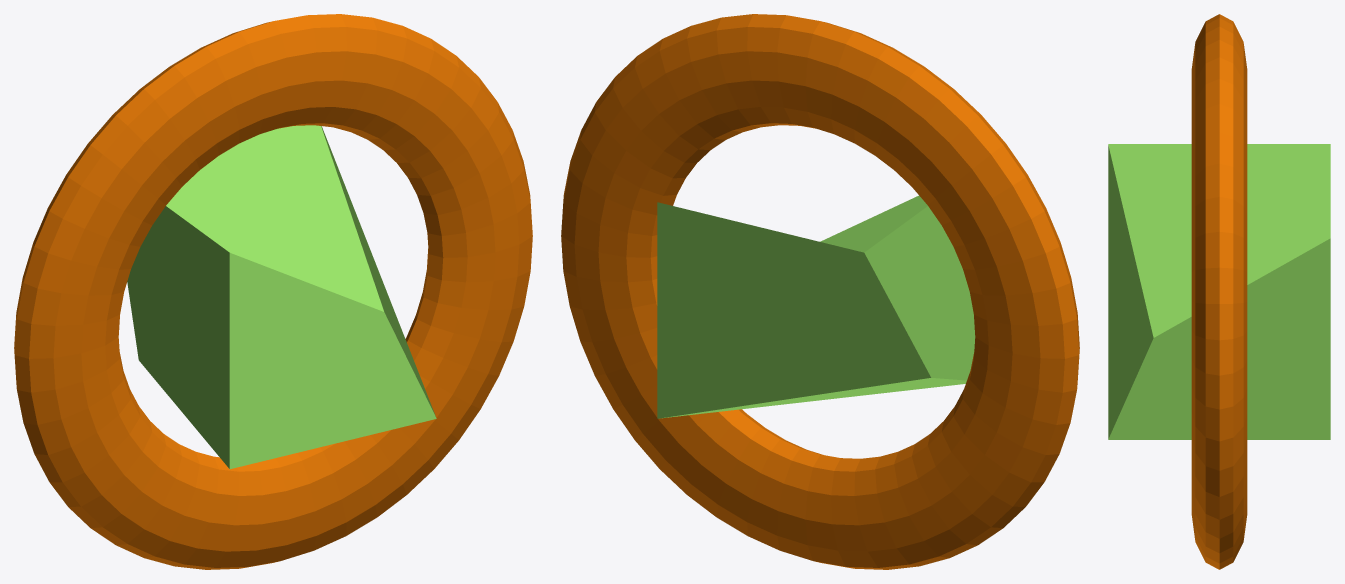
File: gltf_test.glb
3 renders of one model, left to right at view 1: azimuth 30°, elevation 25°; view 2: azimuth 150°, elevation 25°; view 3: azimuth 270°, elevation 25°, orthographic. The views are drawn at different scales.
Visible parts, largest first — view 1: Torus, Cube; view 2: Torus, Cube; view 3: Cube, Torus.
Boxes of the visible parts, box(x1,y1,x2,y2) form: Torus: box(14, 14, 532, 569); Cube: box(127, 125, 436, 469); Torus: box(561, 14, 1079, 569); Cube: box(657, 195, 975, 418); Cube: box(1108, 144, 1330, 439); Torus: box(1191, 14, 1247, 569).
Size of the model in its own units: 5 by 5 by 2.
